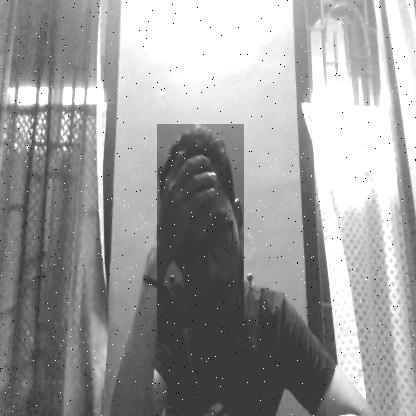Normal: (157, 124, 244, 328)
